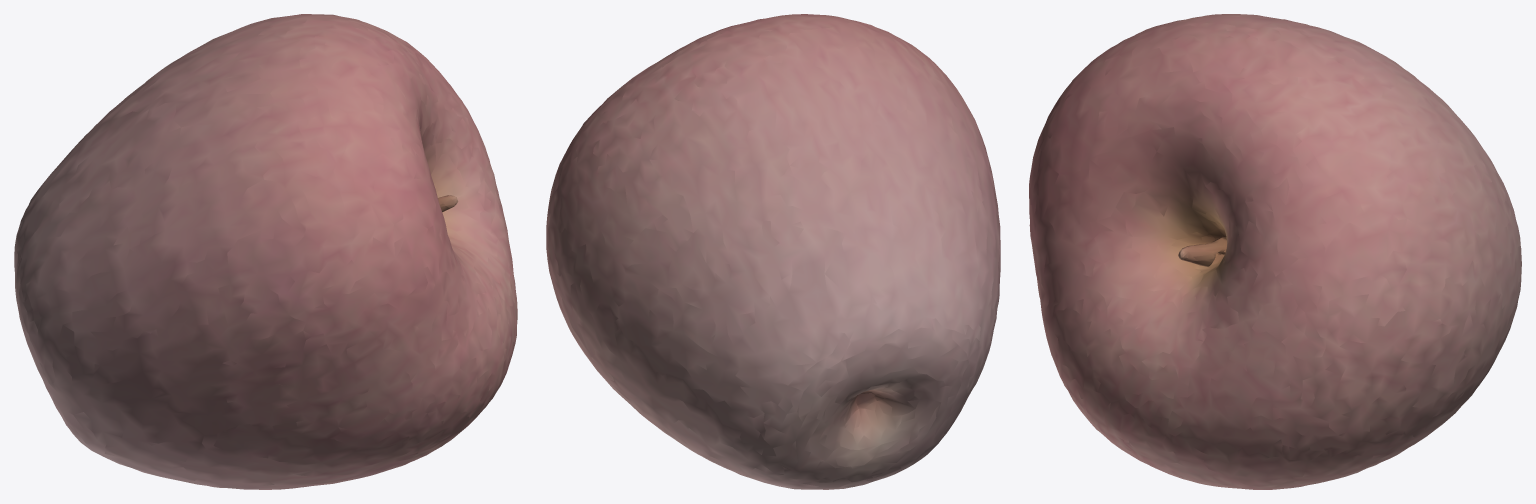
The model's file is 0006_mask_007_red_apple.glb.
The picture shows the model from 3 angles, left to right: view 1: azimuth 30°, elevation 25°; view 2: azimuth 150°, elevation 25°; view 3: azimuth 270°, elevation 25°; orthographic projection. The views are drawn at different scales.
Visible parts, largest first — view 1: mask_007_object; view 2: mask_007_object; view 3: mask_007_object.
Part boxes in pixels (<box>): mask_007_object: <box>14,14,517,489</box>; mask_007_object: <box>546,14,1000,489</box>; mask_007_object: <box>1029,14,1521,489</box>.
Size of the model in its own units: 0.1584 by 0.1479 by 0.1494.
